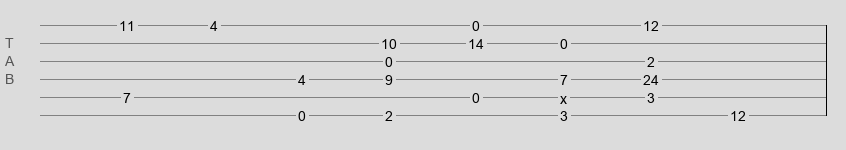0: (298, 108, 306, 118), (385, 54, 393, 64), (472, 90, 480, 100), (472, 18, 480, 28), (560, 36, 568, 46)
10: (381, 36, 397, 46)
11: (119, 18, 135, 28)
12: (643, 18, 659, 28), (730, 108, 746, 118)
14: (468, 36, 484, 46)
2: (385, 108, 393, 118), (647, 54, 655, 64)
24: (643, 72, 659, 82)
3: (560, 108, 568, 118), (647, 90, 655, 100)
4: (210, 18, 218, 28), (298, 72, 306, 82)
7: (123, 90, 131, 100), (560, 72, 568, 82)
9: (385, 72, 393, 82)
x: (560, 91, 567, 99)
